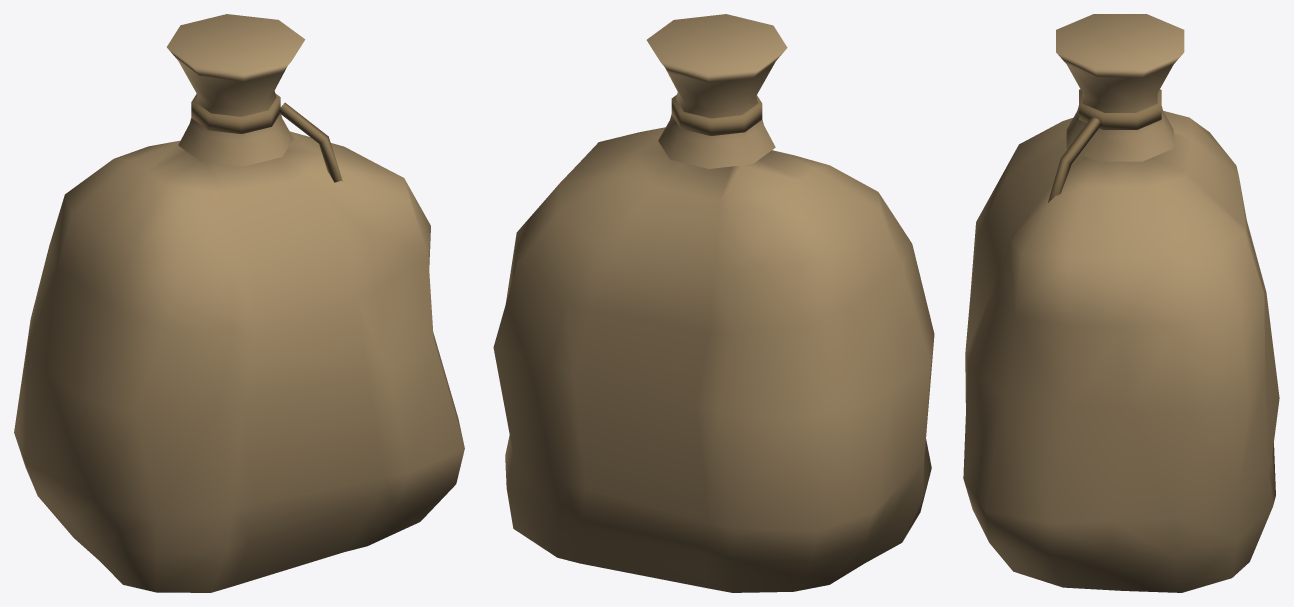
Rendered from Sack.fbx.
3 renders of one model, left to right at view 1: azimuth 30°, elevation 25°; view 2: azimuth 150°, elevation 25°; view 3: azimuth 270°, elevation 25°, orthographic. The views are drawn at different scales.
Parts seen in each view (by area): view 1: Sack; view 2: Sack; view 3: Sack.
Boxes of the visible parts, x1,y1,x2,y2 form: Sack: [14, 14, 464, 592]; Sack: [493, 14, 934, 592]; Sack: [963, 14, 1279, 592].
Bounding box in the file's own units: 0.5507 × 0.6807 × 0.4095.
